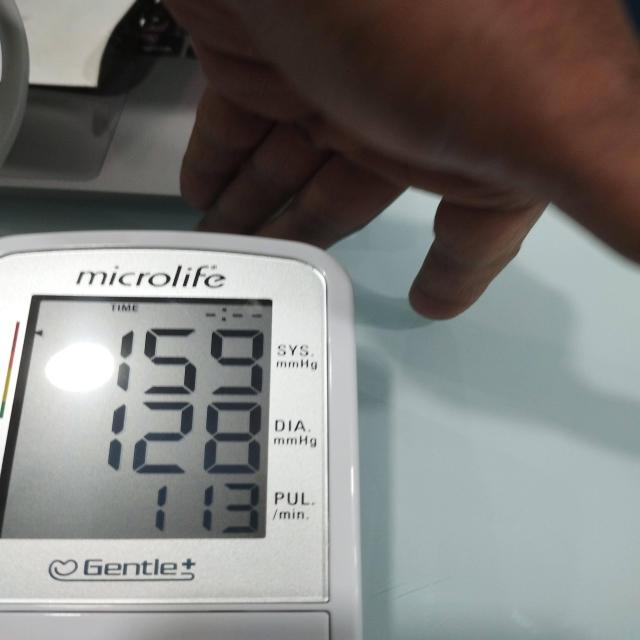bp: (2, 182, 377, 640)
